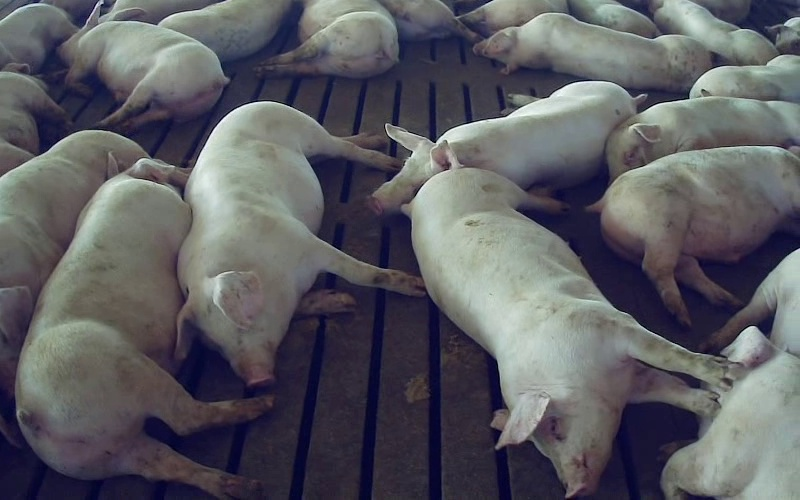pig: (404, 167, 731, 496), (17, 153, 271, 496), (176, 102, 424, 387), (0, 131, 147, 393), (589, 146, 799, 325), (370, 81, 645, 213), (661, 326, 799, 499), (58, 0, 228, 132), (473, 13, 711, 92), (605, 96, 799, 180), (255, 0, 398, 77), (650, 0, 778, 64), (689, 55, 799, 102), (379, 0, 481, 42), (458, 0, 568, 36), (568, 0, 659, 37)
